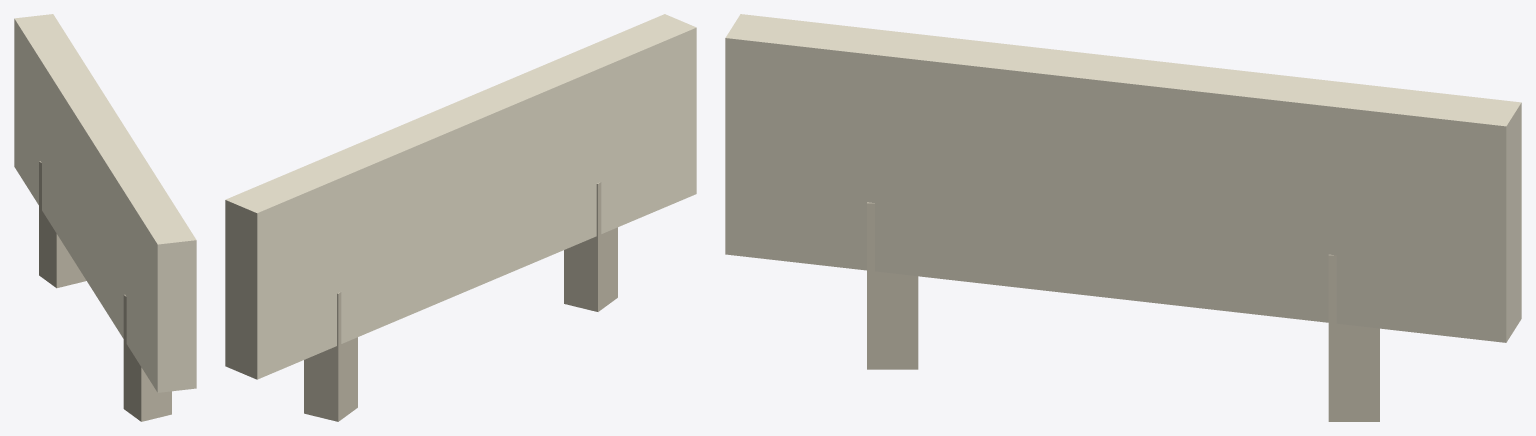
File: rail-75.glb
The picture shows the model from 3 angles, left to right: view 1: azimuth 30°, elevation 25°; view 2: azimuth 150°, elevation 25°; view 3: azimuth 270°, elevation 25°; orthographic projection. The views are drawn at different scales.
Size of the model in its own units: 0.362 by 0.4725 by 1.08.
